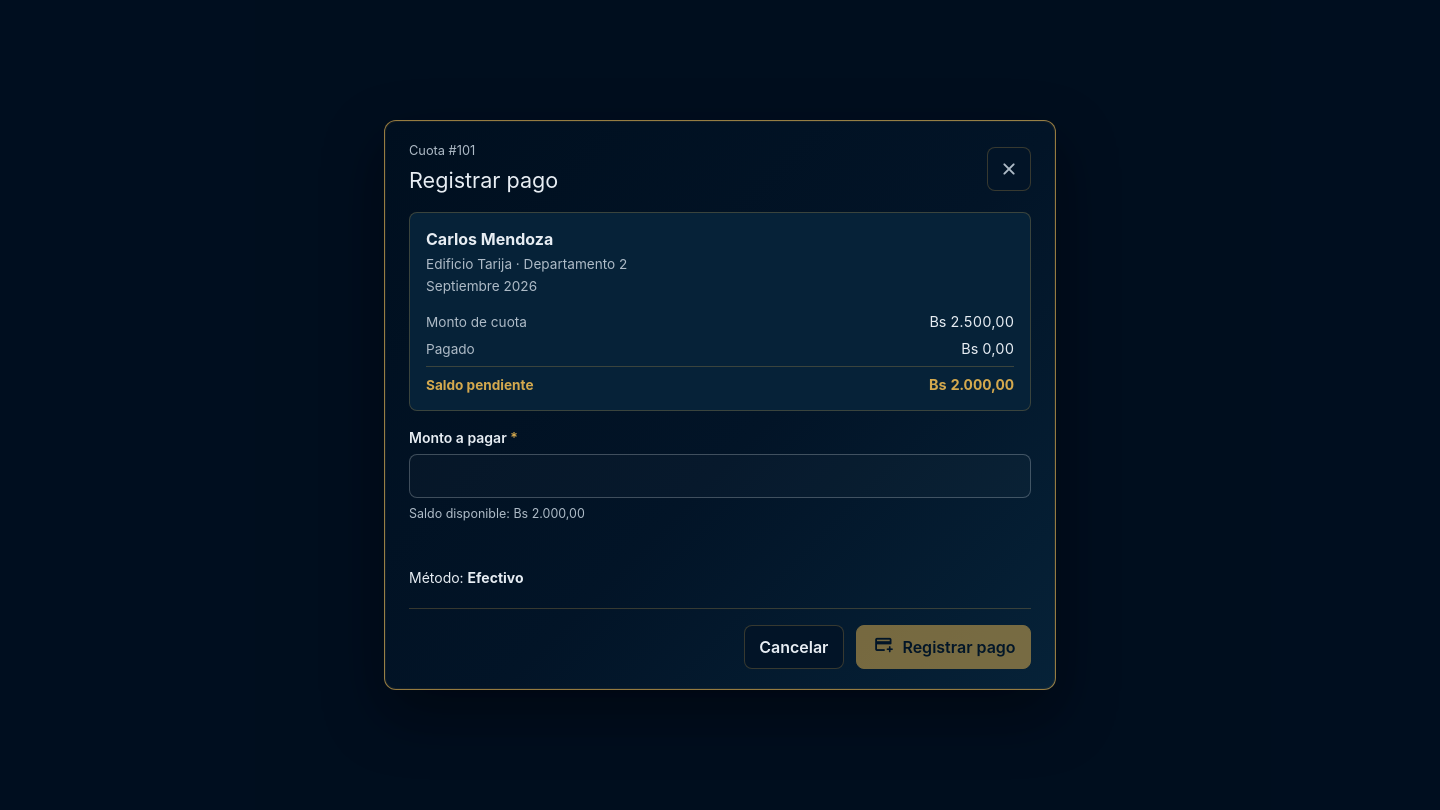
Test case: RegistrarPagoModalComponent › validates positive amount, two decimals, and the cuota balance
The width and height of the screenshot is (1440, 810).
Type "0" into the field labelled "Monto a pagar *".
click(720, 476); type("0")  # box [409,454,1031,498]
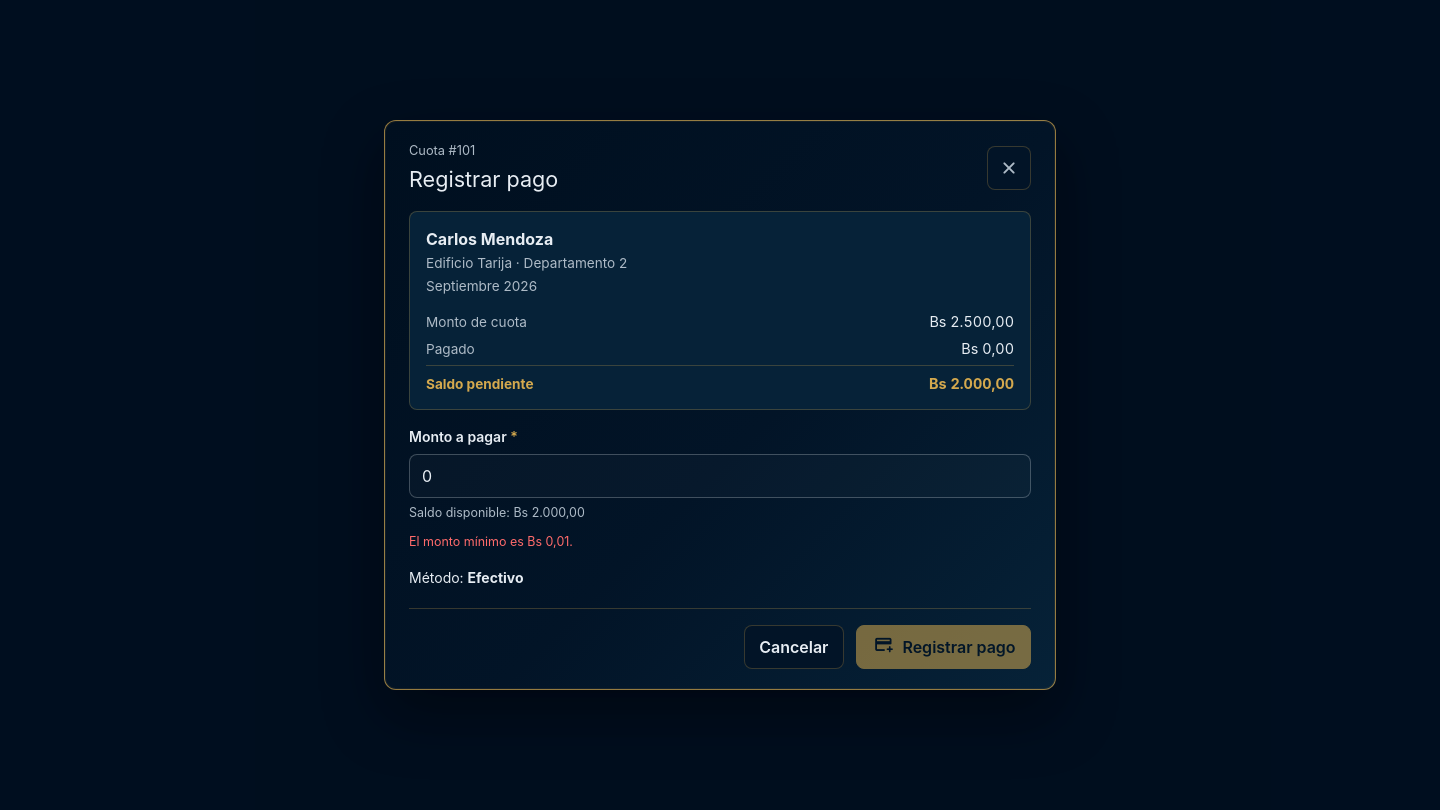
Check: the text "El monto mínimo es Bs 0,01." is shown, box [409,534,573,549]
Replace the text in the field labelled "Monto a pagar *" with "2000.01" at (720, 476), box [409,454,1031,498]
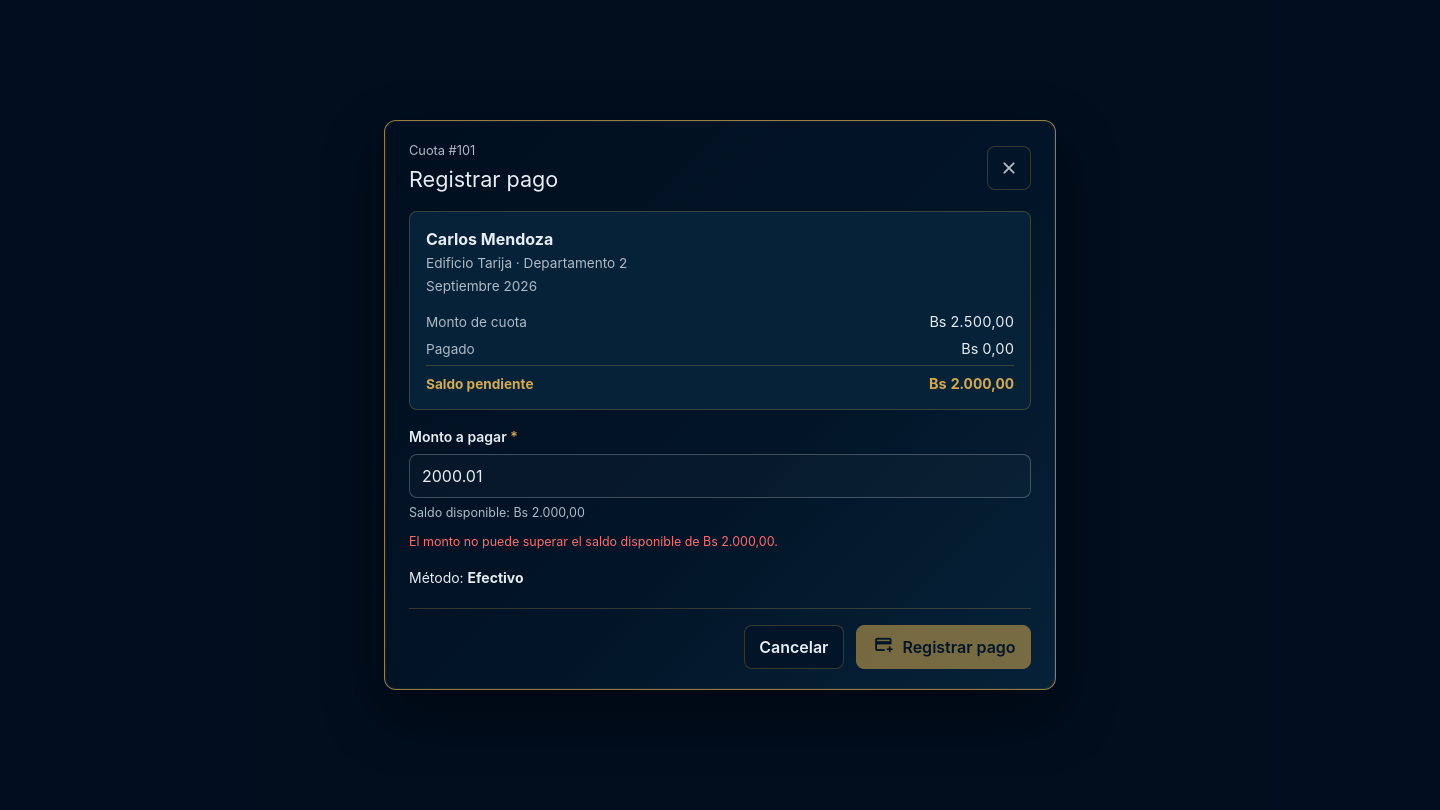
Check: the text "El monto no puede superar el saldo disponible de Bs 2.000,00." is shown, box [409,534,778,549]
Replace the text in the field labelled "Monto a pagar *" with "10.123" at (720, 476), box [409,454,1031,498]
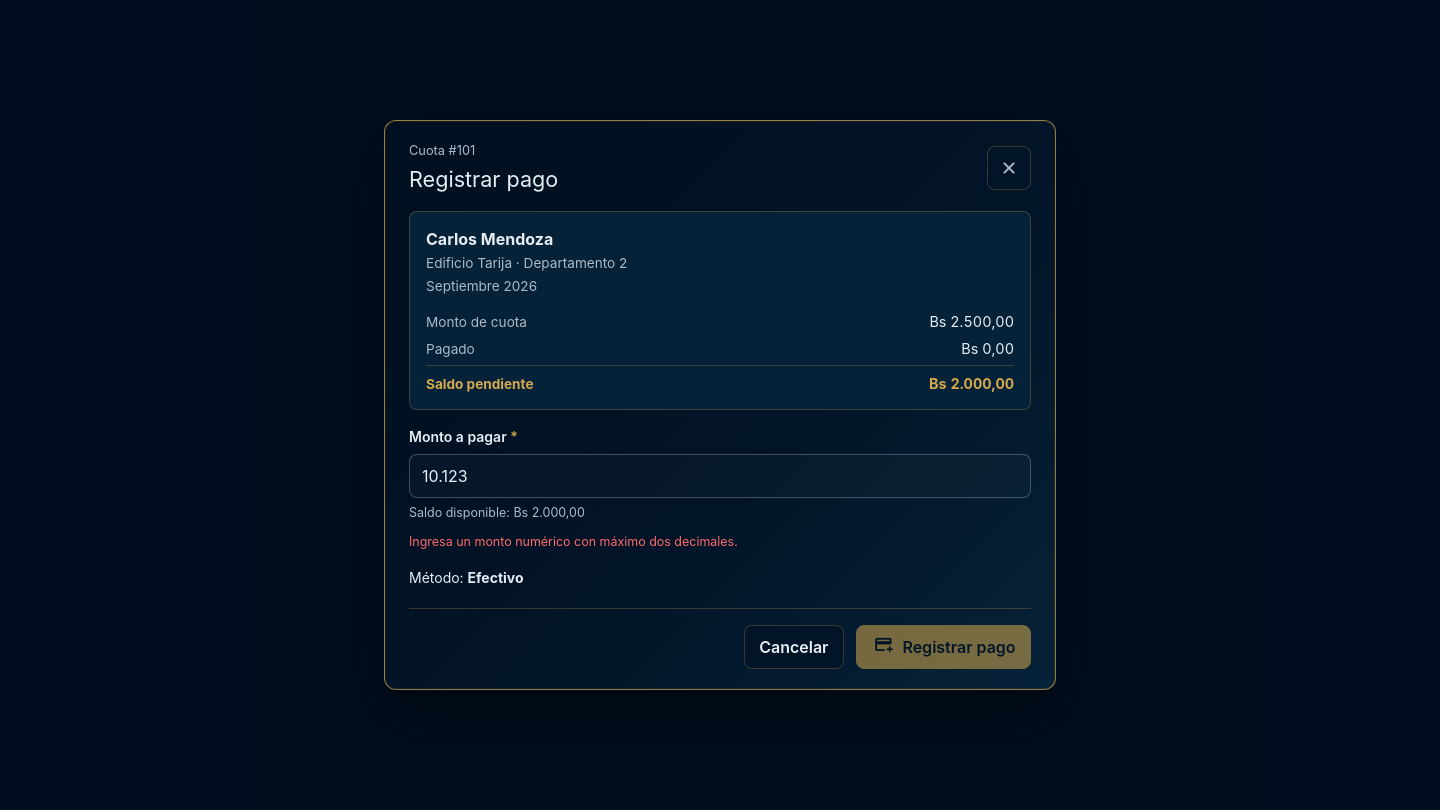
Check: the text "Ingresa un monto numérico con máximo dos decimales." is shown, box [409,534,738,549]
Replace the text in the field labelled "Monto a pagar *" with "-10" at (720, 476), box [409,454,1031,498]
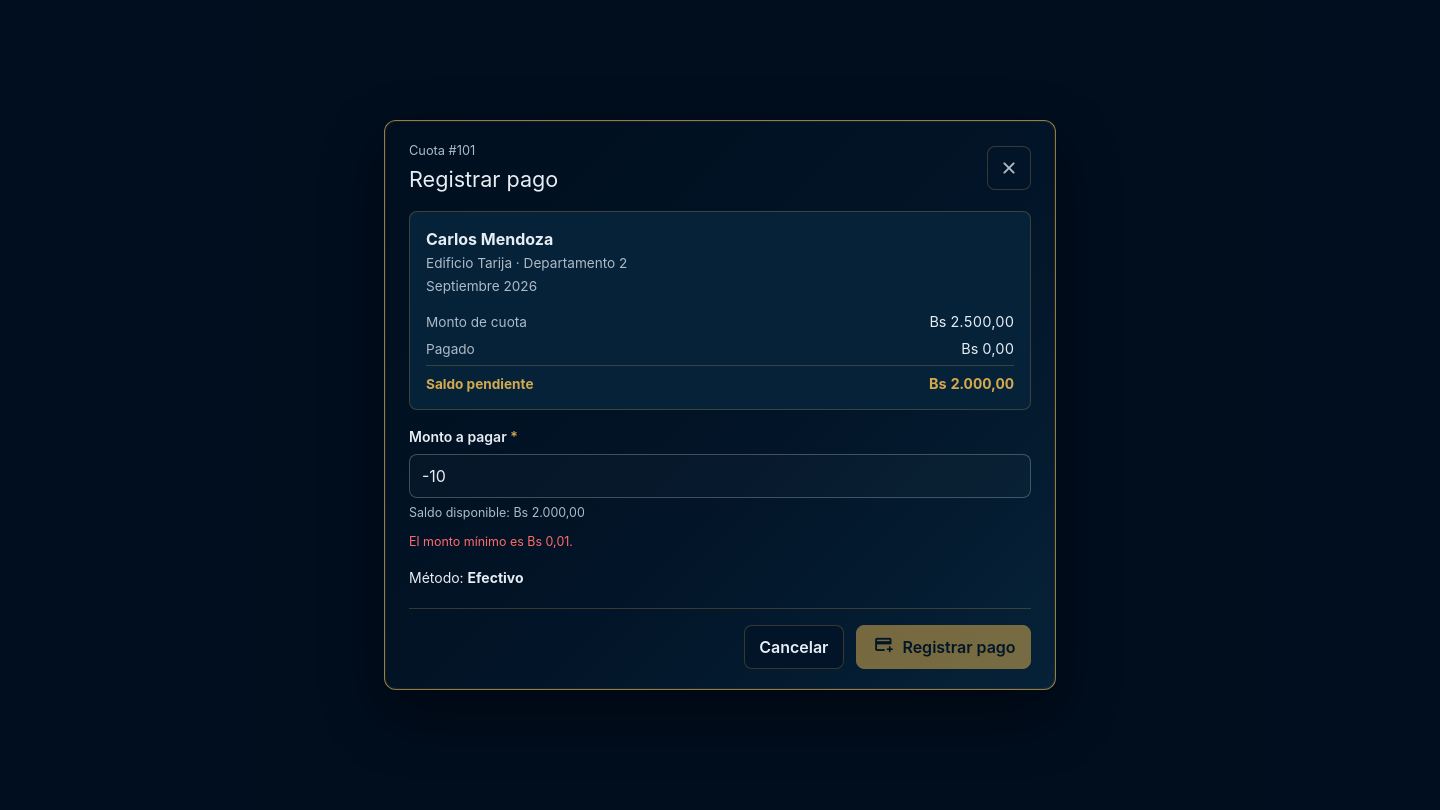
Check: the text "El monto mínimo es Bs 0,01." is shown, box [409,534,573,549]
Replace the text in the field labelled "Monto a pagar *" with "abc" at (720, 476), box [409,454,1031,498]
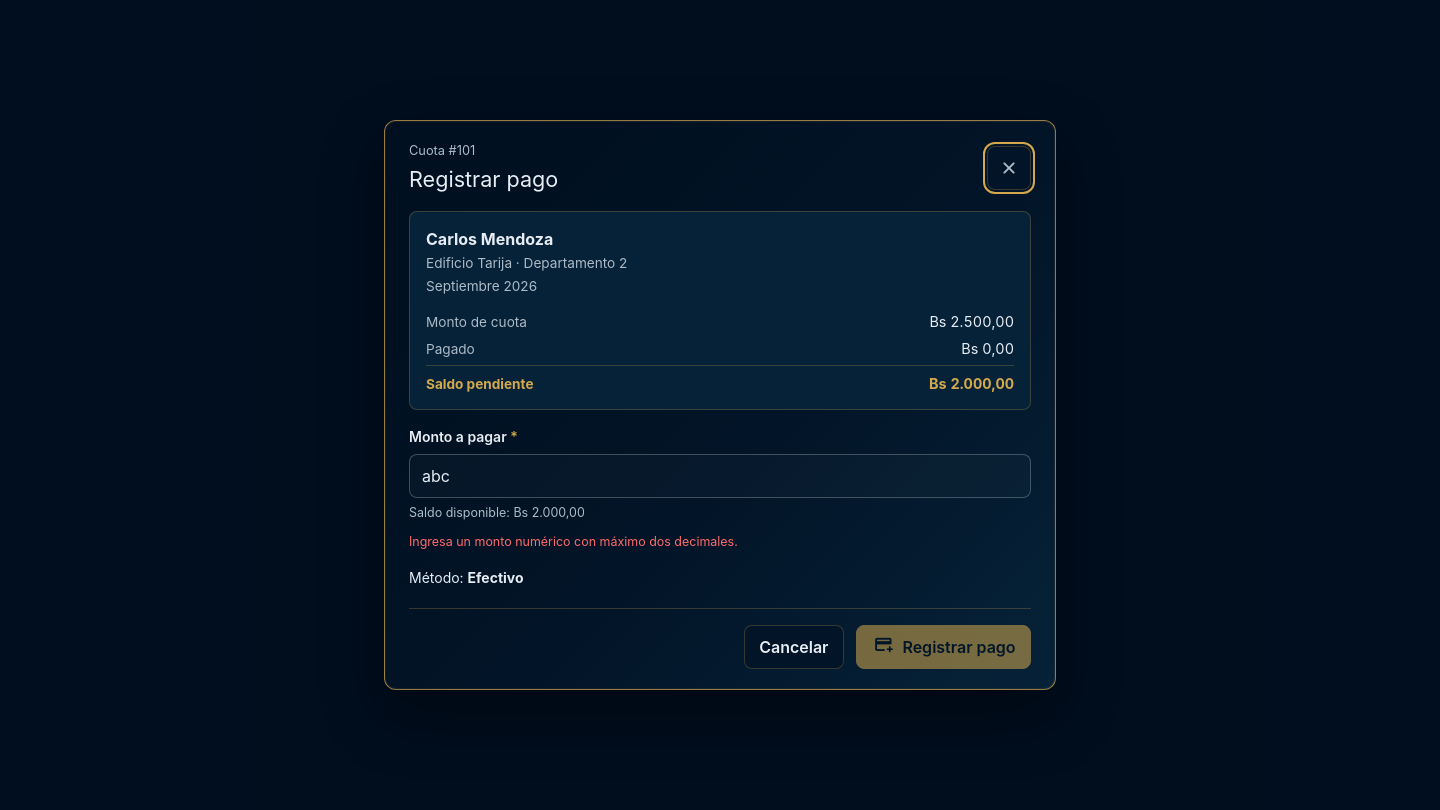
Check: the text "Ingresa un monto numérico con máximo dos decimales." is shown, box [409,534,738,549]
